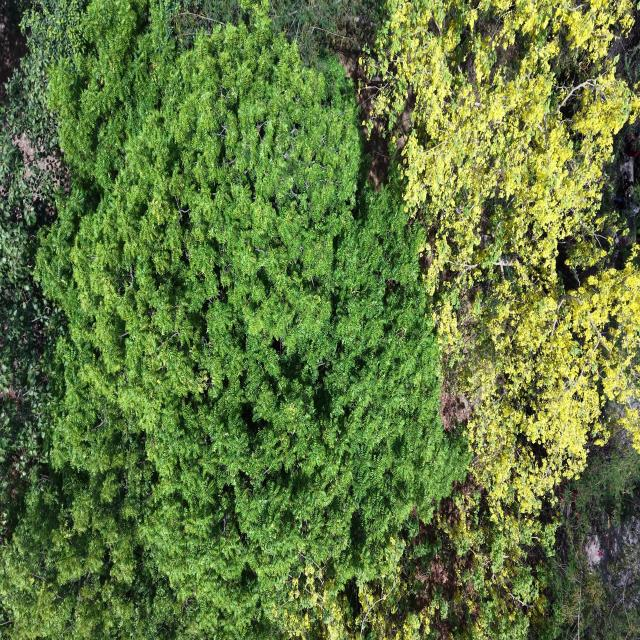DRY_AREA: (0, 2, 27, 103)
VEGETATION_TREE: (0, 0, 639, 639), (0, 0, 467, 637), (369, 0, 639, 637), (377, 2, 639, 514), (0, 2, 79, 538), (549, 432, 639, 639), (265, 0, 384, 66)
